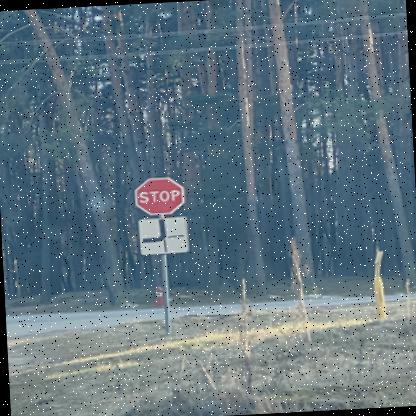stop: (130, 174, 182, 215)
